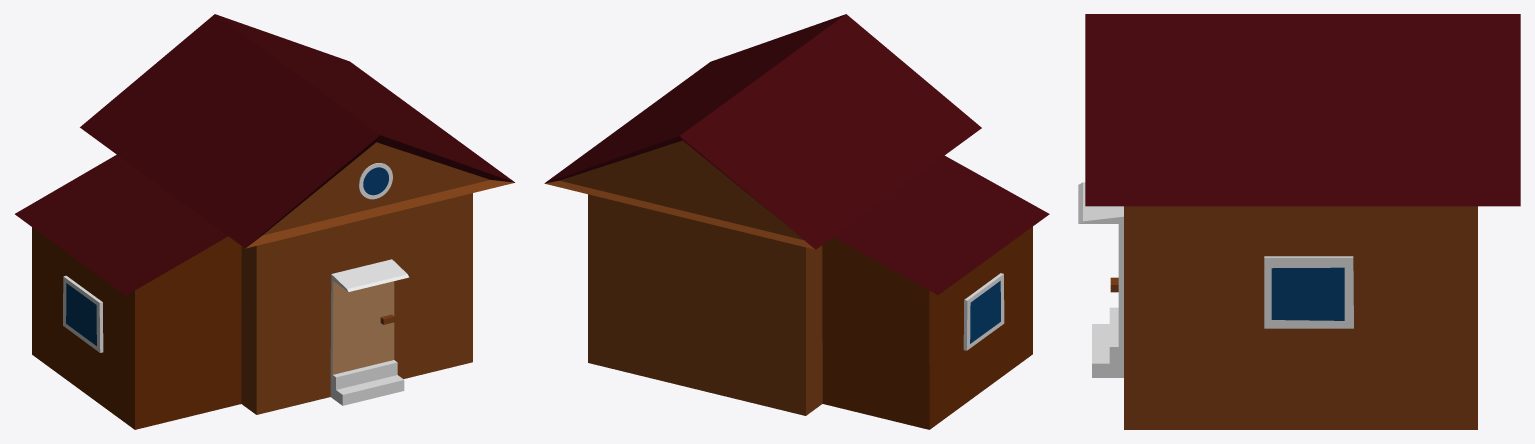
Rendered from house1.glb.
3 views of the same model, side by side, from view 1: azimuth 30°, elevation 25°; view 2: azimuth 150°, elevation 25°; view 3: azimuth 270°, elevation 25° (orthographic). The views are drawn at different scales.
Visible parts, largest first — view 1: Cube; view 2: Cube; view 3: Cube.
Part boxes in pixels (x1=…): Cube: x1=15, y1=14, x2=514, y2=429; Cube: x1=544, y1=14, x2=1049, y2=429; Cube: x1=1078, y1=14, x2=1520, y2=429.
Bounding box in the file's own units: 8.09 × 5.61 × 6.47.
